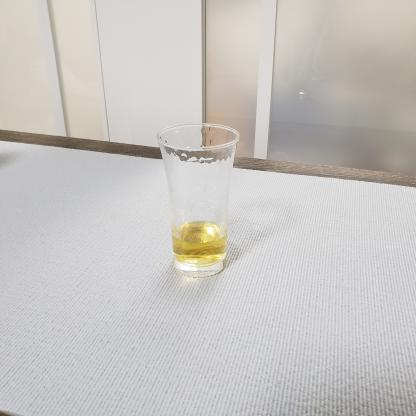glass: (151, 114, 249, 288)
